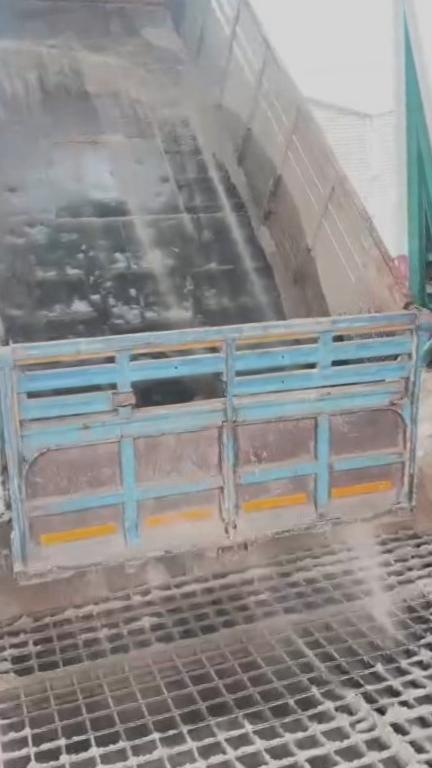sand: (0, 39, 305, 316), (0, 566, 432, 697), (0, 568, 137, 625), (333, 462, 432, 539), (356, 696, 432, 768), (345, 524, 393, 633), (142, 27, 182, 52)
